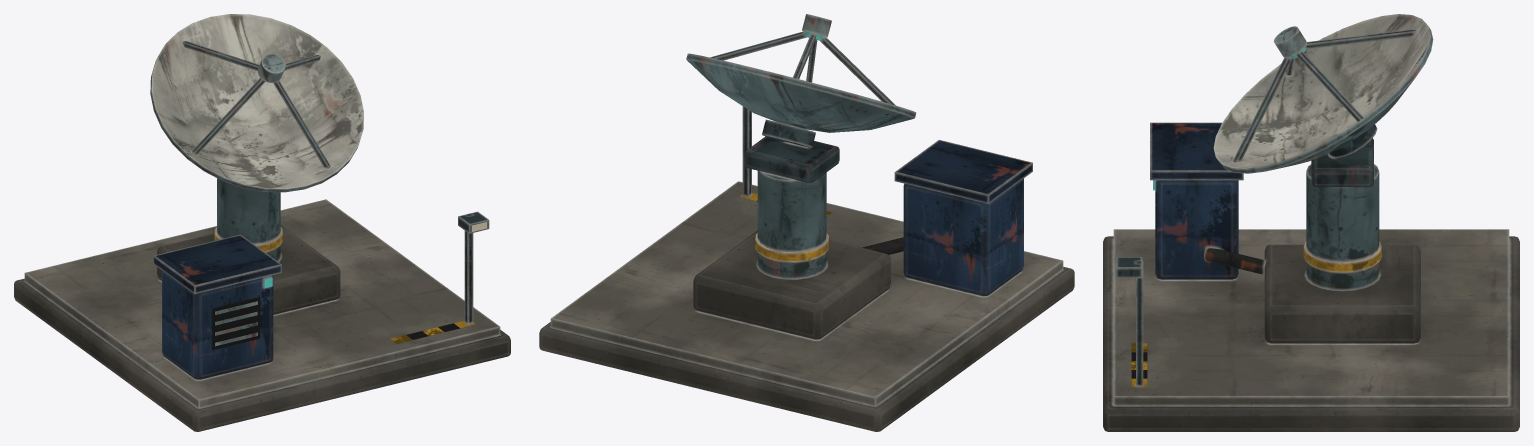
Rendered from observation_uplink.glb.
The picture shows the model from 3 angles, left to right: view 1: azimuth 30°, elevation 25°; view 2: azimuth 150°, elevation 25°; view 3: azimuth 270°, elevation 25°; orthographic projection. The views are drawn at different scales.
Visible parts, largest first — view 1: te_observation_uplink, move_dish; view 2: te_observation_uplink, move_dish; view 3: te_observation_uplink, move_dish.
Boxes of the visible parts, left/top/right/bottom form: te_observation_uplink: left=14, top=178, right=510, bottom=431; move_dish: left=150, top=14, right=363, bottom=192; te_observation_uplink: left=539, top=106, right=1074, bottom=431; move_dish: left=686, top=14, right=916, bottom=182; te_observation_uplink: left=1103, top=122, right=1519, bottom=431; move_dish: left=1213, top=14, right=1433, bottom=187.
Size of the model in its own units: 0.8 by 0.6724 by 0.8.
1 material, 1 textured.
